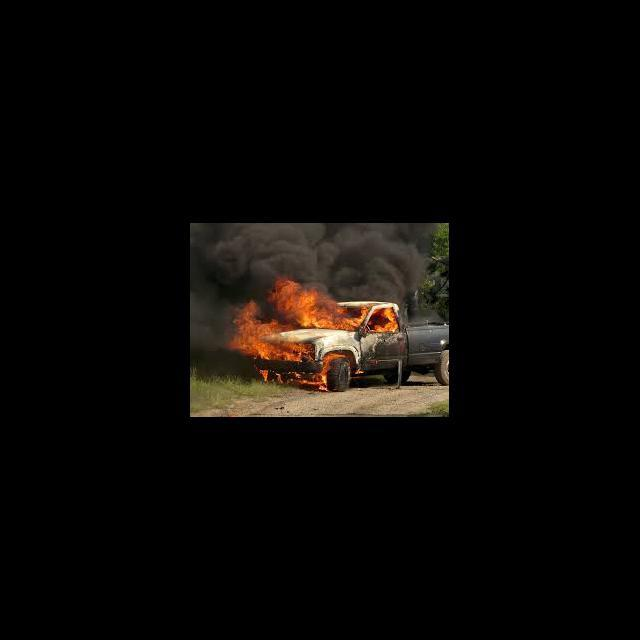Fire: (229, 302, 353, 389), (266, 274, 401, 332)
Smoke: (266, 224, 432, 274), (192, 223, 266, 300), (192, 300, 228, 354)
